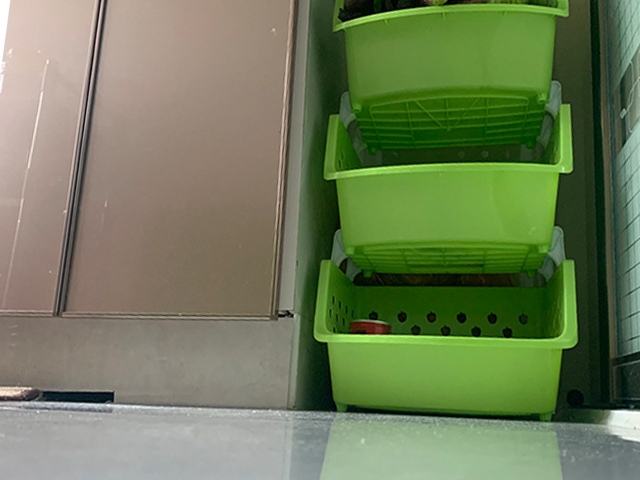cabinet: (1, 1, 326, 413)
